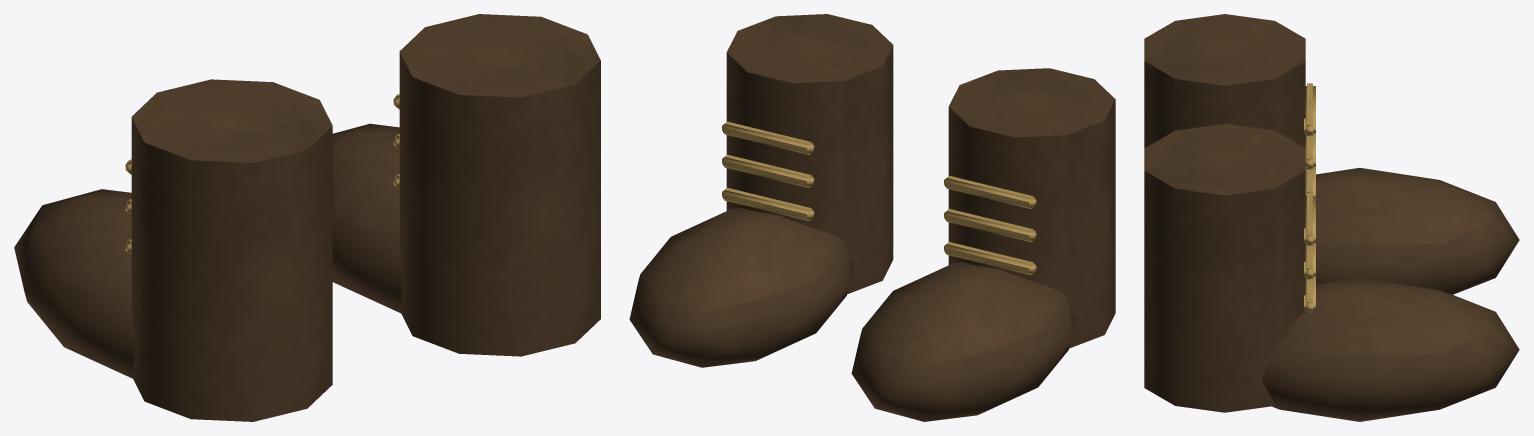
Rendered from item-LeatherBoots.fbx.
The picture shows the model from 3 angles, left to right: view 1: azimuth 30°, elevation 25°; view 2: azimuth 150°, elevation 25°; view 3: azimuth 270°, elevation 25°; orthographic projection. The views are drawn at different scales.
Visible parts, largest first — view 1: item-LeatherBoots__Geometry; view 2: item-LeatherBoots__Geometry; view 3: item-LeatherBoots__Geometry.
Part boxes in pixels (x1,y1,x2,y2): item-LeatherBoots__Geometry: [14, 14, 600, 421]; item-LeatherBoots__Geometry: [629, 14, 1115, 421]; item-LeatherBoots__Geometry: [1144, 14, 1519, 421].
Size of the model in its own units: 0.4502 by 0.275 by 0.3758.
Materials: 1 (1 with a texture image).
